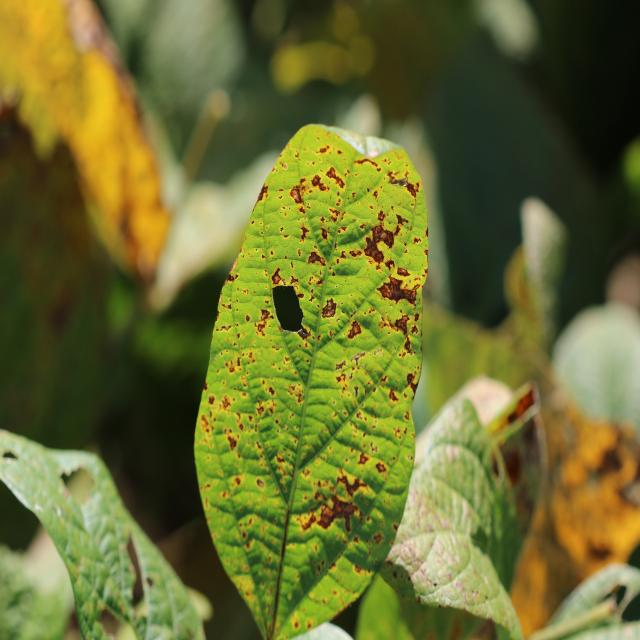Bacterial_Blight: (298, 474, 365, 534), (361, 209, 405, 271), (329, 215, 374, 256), (316, 292, 350, 345), (377, 308, 420, 348), (376, 275, 419, 309), (354, 434, 375, 473), (337, 473, 368, 499), (234, 411, 259, 437), (325, 165, 346, 189), (405, 370, 421, 398), (298, 509, 318, 531), (355, 157, 380, 174), (224, 355, 243, 375), (404, 179, 420, 200), (321, 298, 337, 319), (290, 185, 305, 205), (271, 266, 285, 287), (307, 250, 325, 266), (388, 174, 409, 187), (328, 207, 344, 224), (257, 308, 272, 326), (349, 351, 367, 366), (310, 174, 326, 190), (297, 325, 312, 342), (298, 224, 310, 243), (257, 184, 269, 202), (227, 434, 238, 451), (229, 257, 238, 275), (388, 389, 399, 403), (221, 396, 231, 411), (375, 461, 387, 473), (335, 359, 346, 371), (256, 402, 265, 416), (256, 478, 265, 489), (226, 272, 235, 283), (207, 394, 215, 405), (373, 348, 383, 356), (293, 619, 300, 630), (268, 386, 275, 396), (234, 476, 241, 486), (281, 162, 288, 170), (245, 314, 251, 323)
Soybean: (192, 124, 429, 640)
